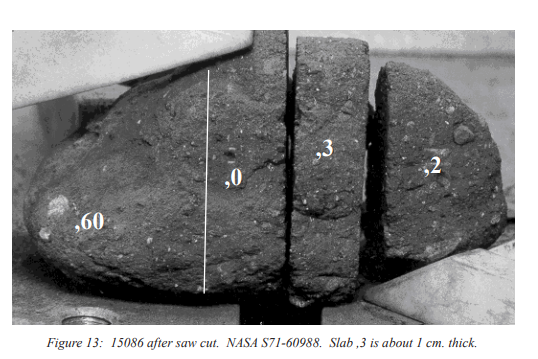Breccia: (20, 31, 292, 302), (371, 54, 509, 254), (289, 30, 370, 309)
